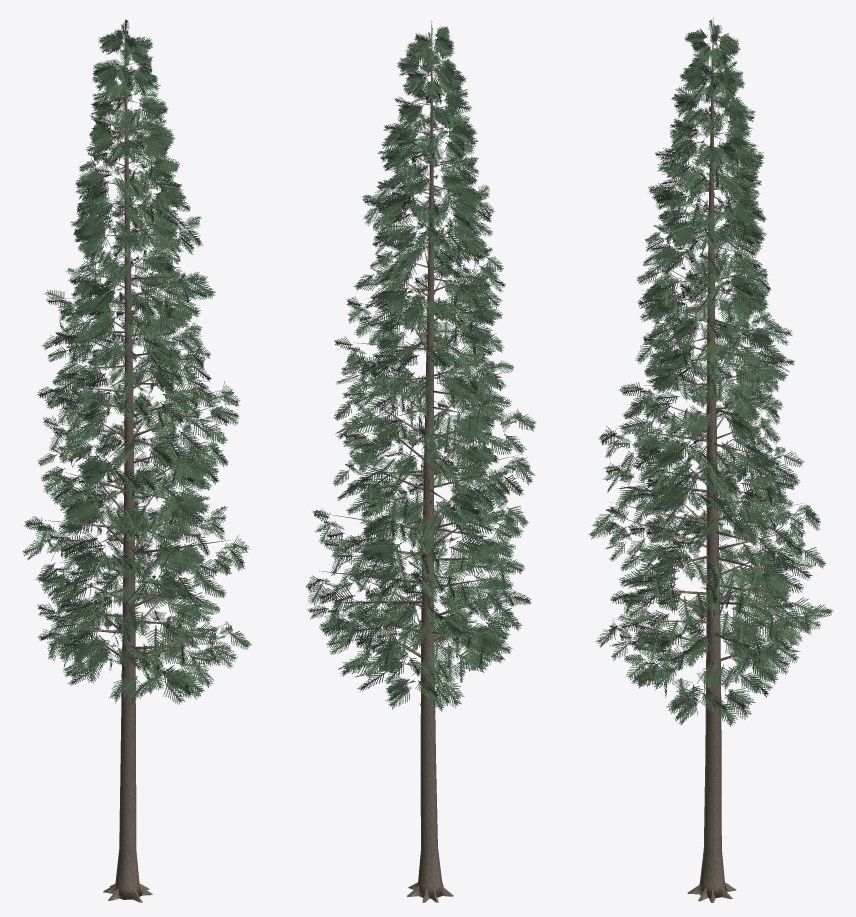
Rendered from Sitka_Mature_Benchmark_01_LowPruned_Recent_LOD2.fbx.
3 renders of one model, left to right at view 1: azimuth 30°, elevation 25°; view 2: azimuth 150°, elevation 25°; view 3: azimuth 270°, elevation 25°, orthographic.
Parts seen in each view (by area): view 1: Sitka_Mature_Benchmark_01_LowPruned_Recent_LOD2_Foliage, Sitka_Mature_Benchmark_01_LowPruned_Recent_LOD2_Trunk, Sitka_Mature_Benchmark_01_LowPruned_Recent_LOD2_Branches; view 2: Sitka_Mature_Benchmark_01_LowPruned_Recent_LOD2_Foliage, Sitka_Mature_Benchmark_01_LowPruned_Recent_LOD2_Trunk, Sitka_Mature_Benchmark_01_LowPruned_Recent_LOD2_Branches; view 3: Sitka_Mature_Benchmark_01_LowPruned_Recent_LOD2_Foliage, Sitka_Mature_Benchmark_01_LowPruned_Recent_LOD2_Trunk, Sitka_Mature_Benchmark_01_LowPruned_Recent_LOD2_Branches.
Part boxes in pixels (<box>): Sitka_Mature_Benchmark_01_LowPruned_Recent_LOD2_Foliage: <box>22,19,251,704</box>; Sitka_Mature_Benchmark_01_LowPruned_Recent_LOD2_Trunk: <box>103,20,152,902</box>; Sitka_Mature_Benchmark_01_LowPruned_Recent_LOD2_Branches: <box>42,34,232,665</box>; Sitka_Mature_Benchmark_01_LowPruned_Recent_LOD2_Foliage: <box>305,25,536,711</box>; Sitka_Mature_Benchmark_01_LowPruned_Recent_LOD2_Trunk: <box>407,21,453,902</box>; Sitka_Mature_Benchmark_01_LowPruned_Recent_LOD2_Branches: <box>319,36,517,675</box>; Sitka_Mature_Benchmark_01_LowPruned_Recent_LOD2_Foliage: <box>588,20,833,726</box>; Sitka_Mature_Benchmark_01_LowPruned_Recent_LOD2_Trunk: <box>687,17,736,902</box>; Sitka_Mature_Benchmark_01_LowPruned_Recent_LOD2_Branches: <box>610,43,811,683</box>.
Size of the model in its own units: 664 by 2600 by 713.
3 materials, 3 textured.
